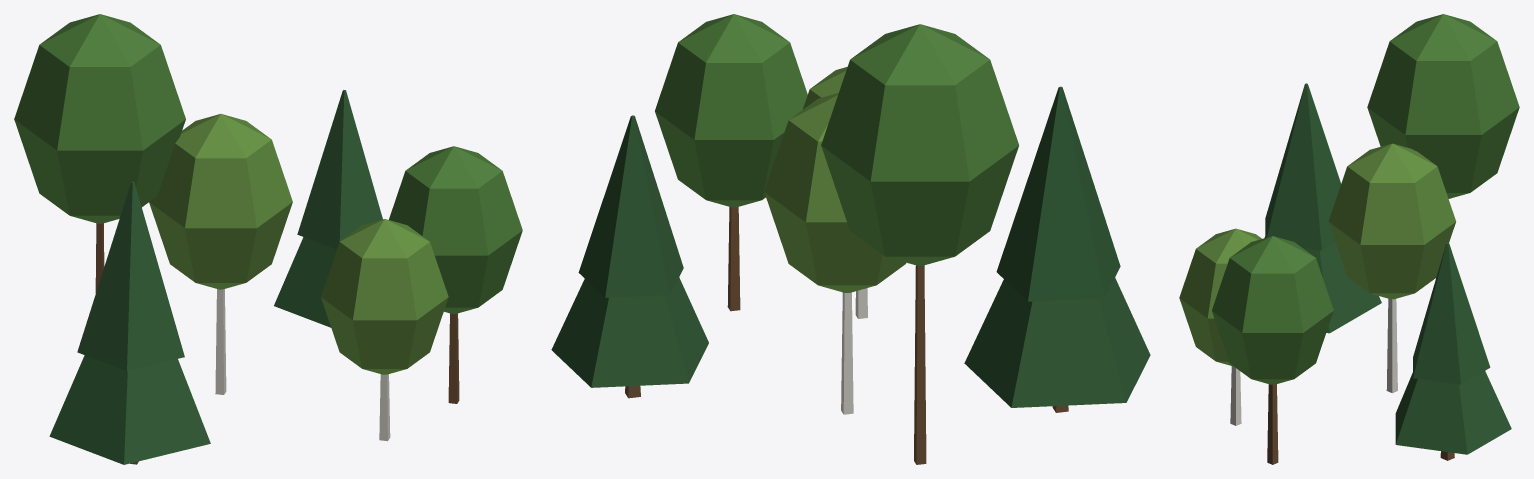
Rendered from copse.glb.
3 renders of one model, left to right at view 1: azimuth 30°, elevation 25°; view 2: azimuth 150°, elevation 25°; view 3: azimuth 270°, elevation 25°, orthographic. The views are drawn at different scales.
Parts seen in each view (by area): view 1: copse; view 2: copse; view 3: copse.
Boxes of the visible parts, left/top/right/bottom form: copse: left=14, top=14, right=522, bottom=464; copse: left=551, top=14, right=1150, bottom=464; copse: left=1179, top=14, right=1519, bottom=464.
Bounding box in the file's own units: 5.45 × 4.67 × 4.27.
